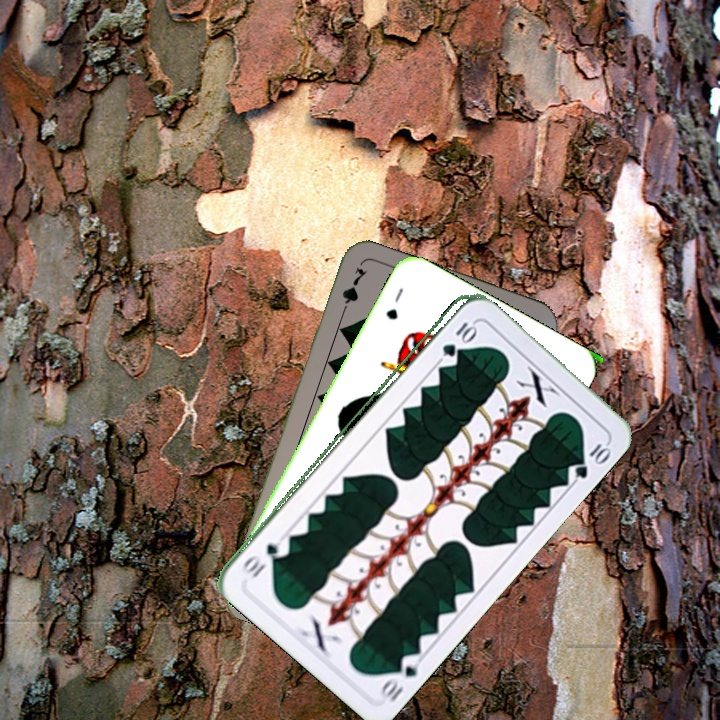G10: (376, 649, 424, 704), (438, 317, 478, 359)
G7: (336, 263, 369, 320)
GU: (381, 283, 407, 323)
